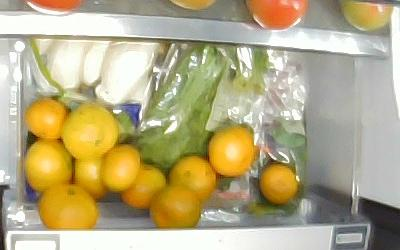tangerine: (60, 102, 117, 160), (38, 184, 99, 228), (24, 140, 73, 192), (208, 125, 253, 175), (149, 185, 201, 228), (121, 163, 170, 207), (170, 156, 215, 198), (101, 143, 140, 190), (24, 98, 66, 140), (260, 165, 298, 203), (74, 158, 105, 198)
